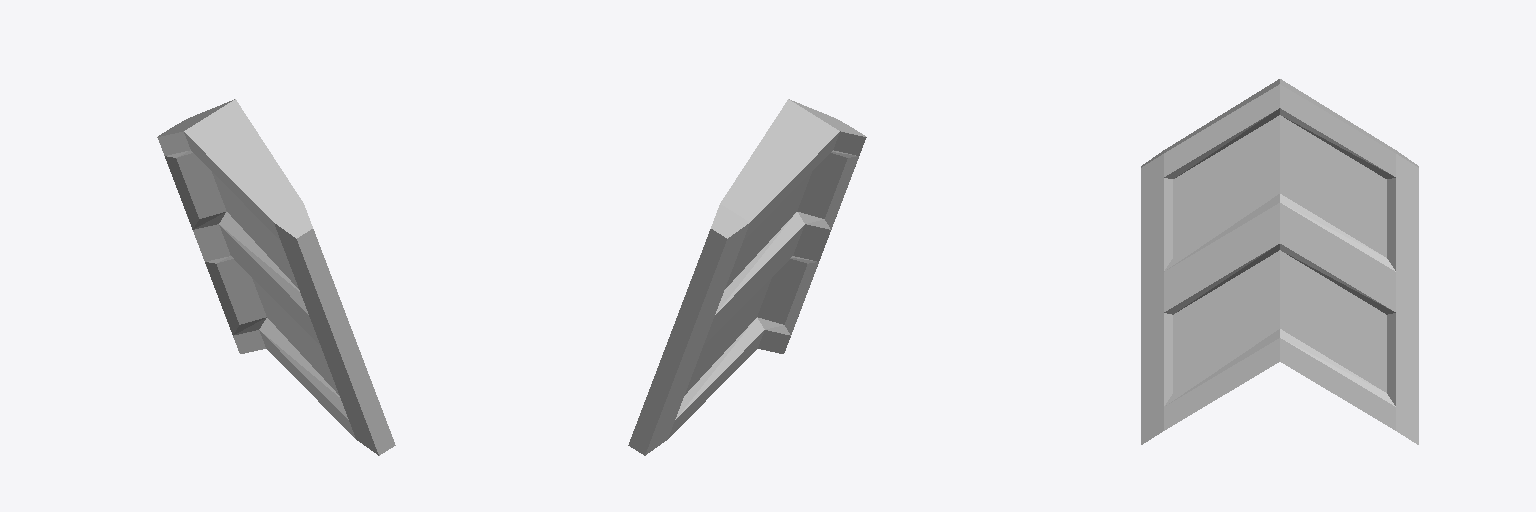
The model's file is SpeedBoost.obj.
3 views of the same model, side by side, from view 1: azimuth 30°, elevation 25°; view 2: azimuth 150°, elevation 25°; view 3: azimuth 270°, elevation 25° (orthographic).
Visible parts, largest first — view 1: pCube2; view 2: pCube2; view 3: pCube2.
Boxes of the visible parts, x1,y1,x2,y2 form: pCube2: [157, 99, 395, 455]; pCube2: [628, 99, 866, 455]; pCube2: [1141, 79, 1418, 444].
Bounding box in the file's own units: 0.5992 × 1.28 × 1.